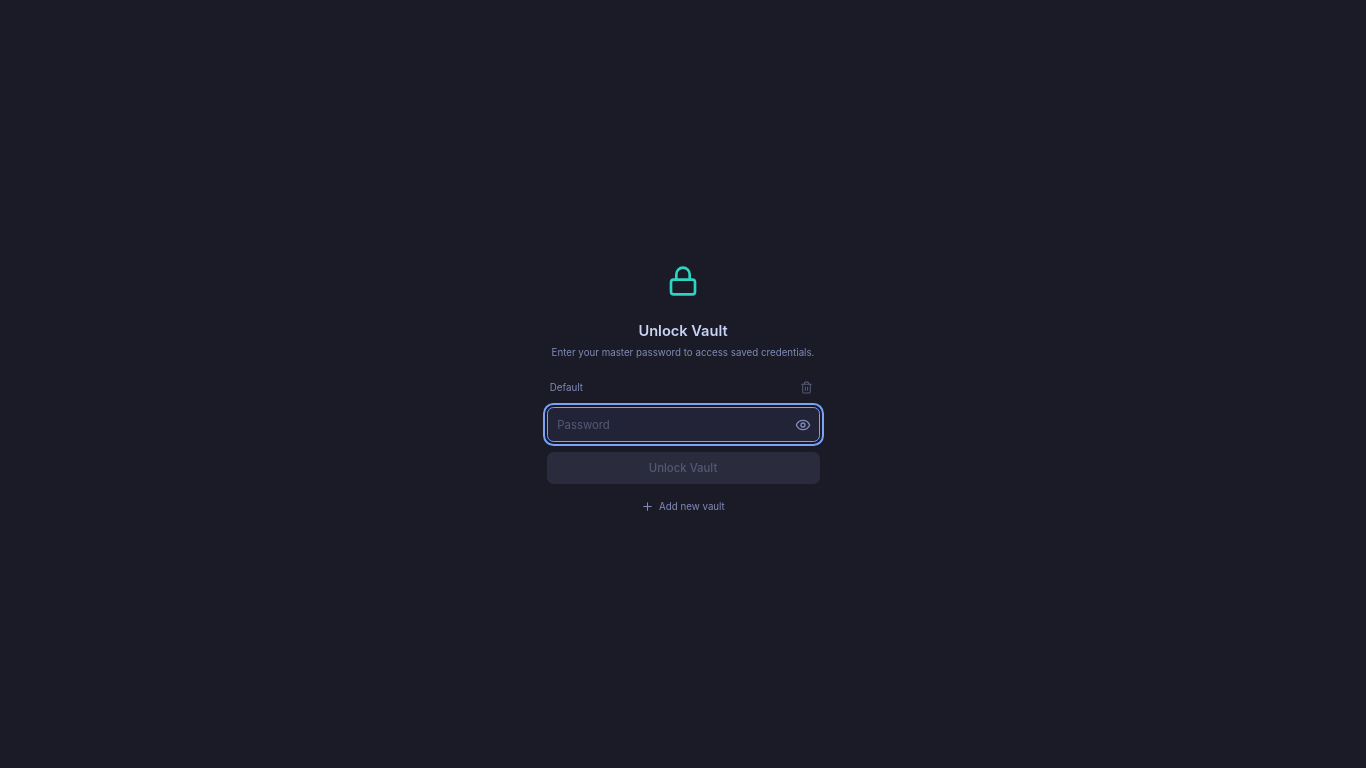
Test case: VaultUnlock › navigates to create mode via 'Add new vault' and back again
Expected: the heading "Unlock Vault" is shown, [638,320,728,342]
Click the button "Add new vault". click: (683, 507)
box: [641,500,725,513]
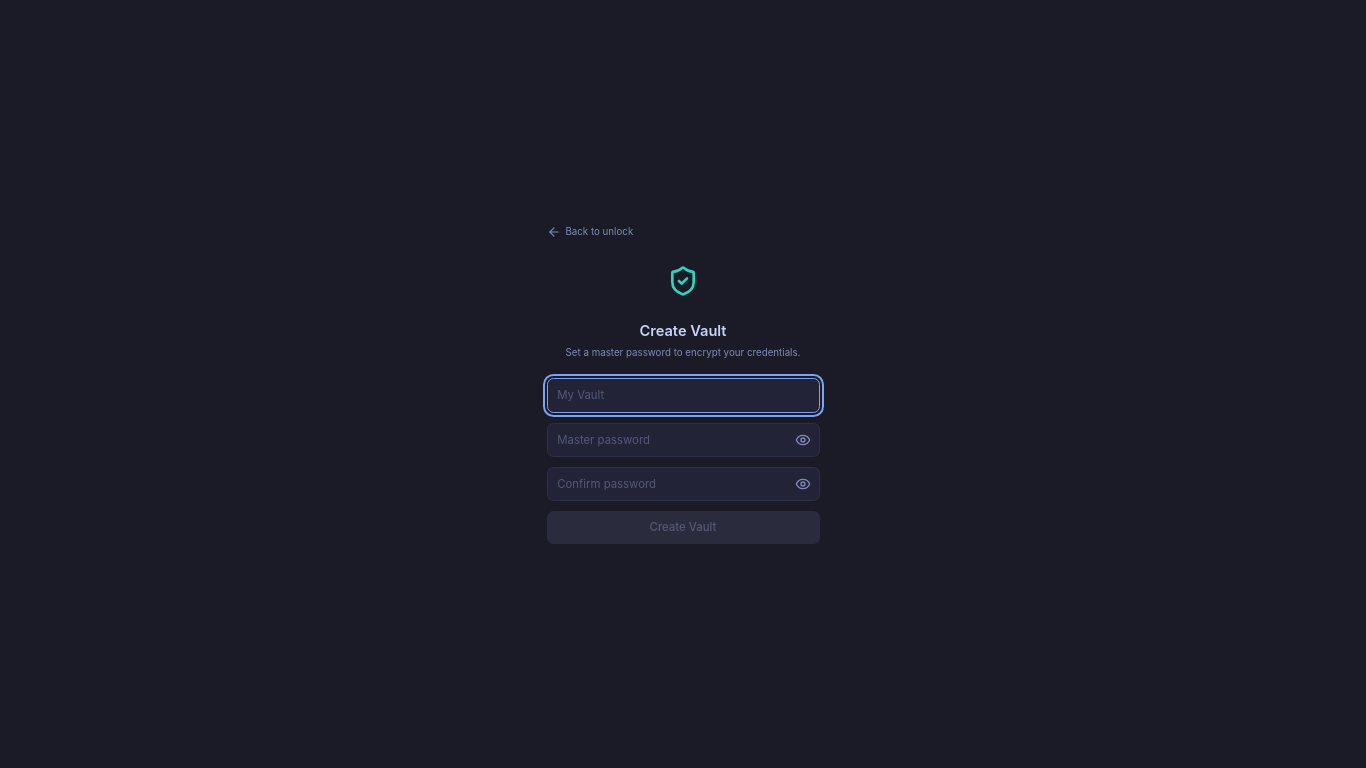
Result: the heading "Create Vault" is shown at [640,320,727,343]
Click the button "Back to unlock". click: (590, 232)
box: [546,224,633,238]
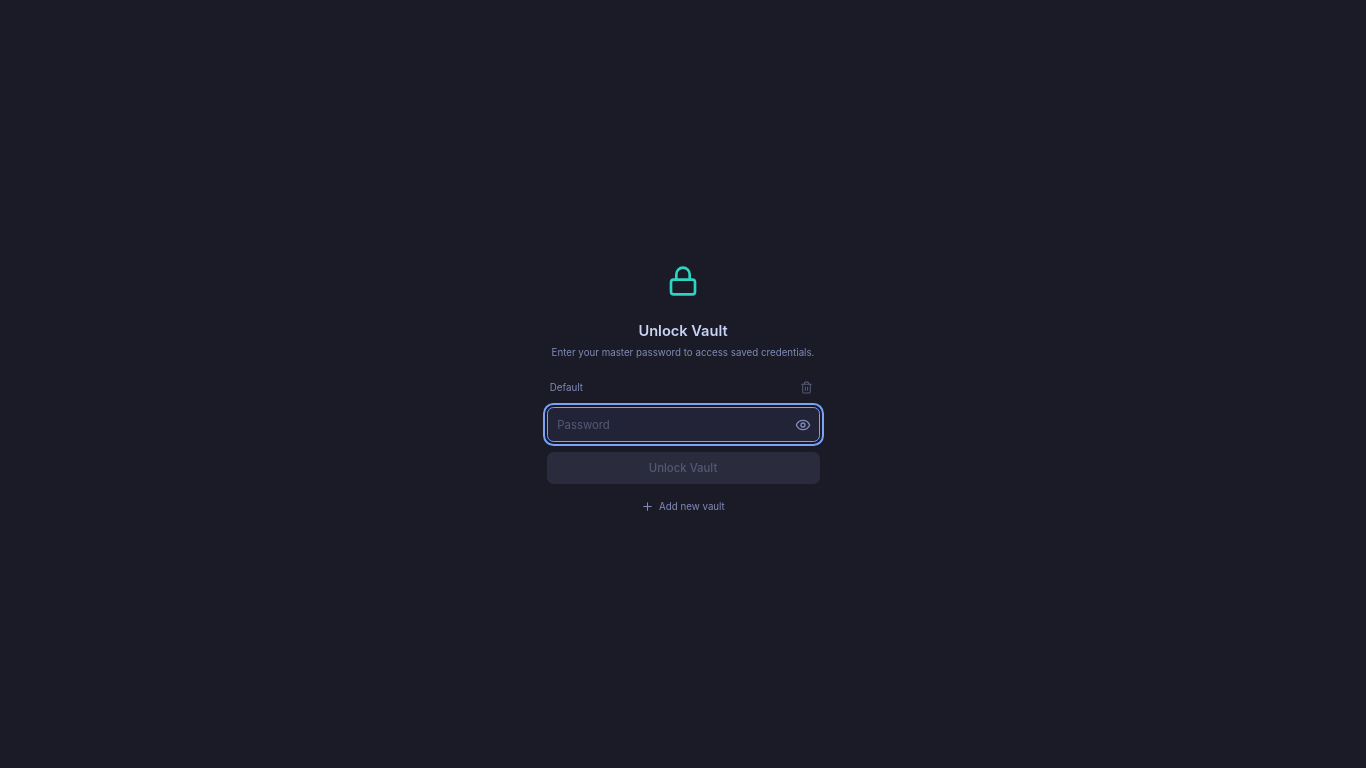
Result: the heading "Unlock Vault" is shown at [638,320,728,342]
